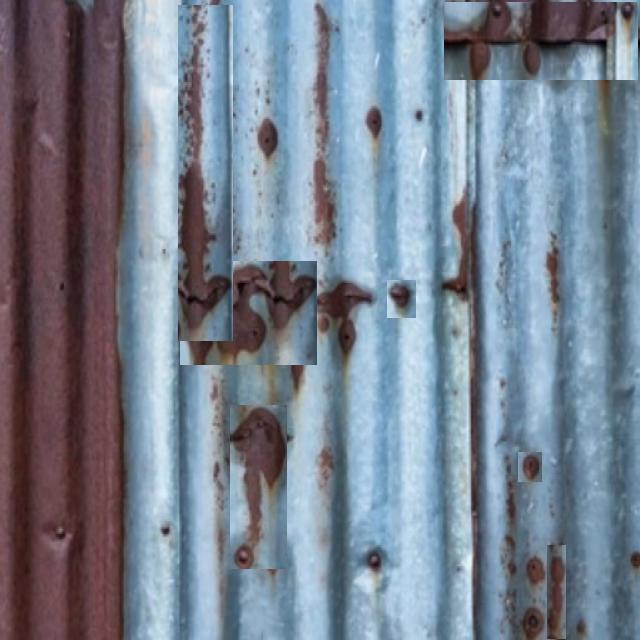Corrosion: (0, 0, 123, 640), (230, 409, 272, 546), (226, 265, 267, 362), (318, 282, 373, 354), (531, 0, 616, 42), (186, 211, 215, 330), (267, 261, 317, 330), (182, 160, 207, 256), (450, 198, 470, 292), (446, 28, 530, 43), (485, 0, 512, 42), (523, 25, 542, 74), (471, 39, 492, 79)
